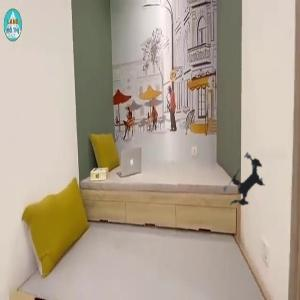drone: (205, 142, 291, 228)
